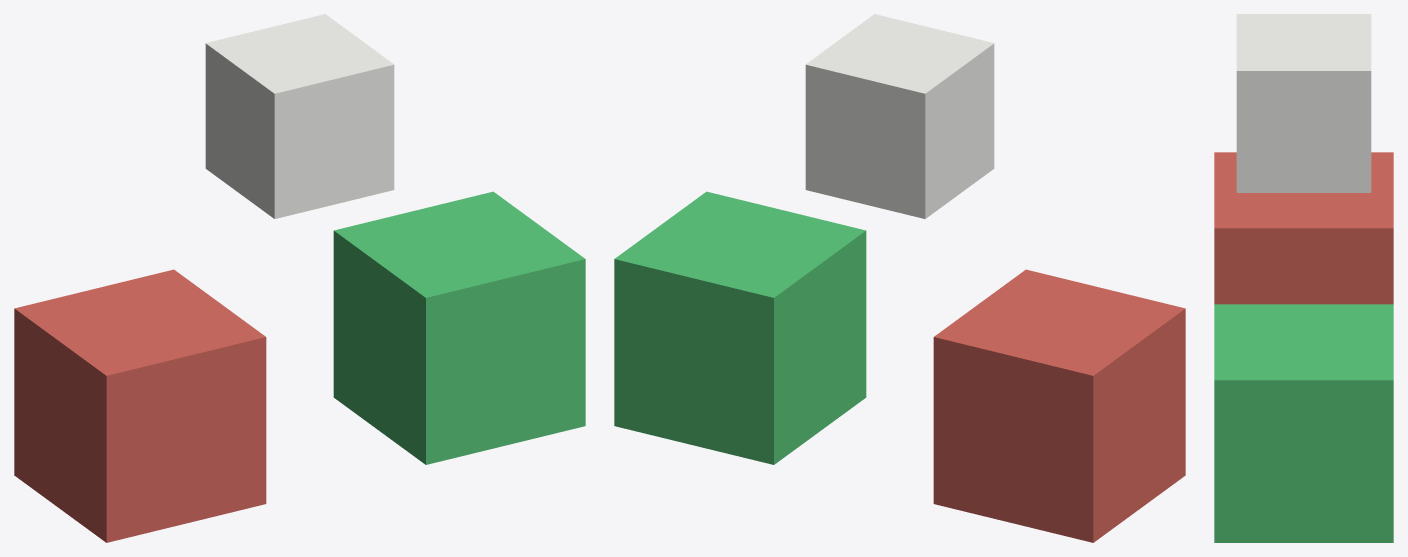
The model's file is nav_light_set.glb.
3 views of the same model, side by side, from view 1: azimuth 30°, elevation 25°; view 2: azimuth 150°, elevation 25°; view 3: azimuth 270°, elevation 25° (orthographic). The views are drawn at different scales.
Visible parts, largest first — view 1: redlight, greenlight, mastlight; view 2: redlight, greenlight, mastlight; view 3: greenlight, mastlight, redlight.
Boxes of the visible parts, x1,y1,x2,y2 form: redlight: (14,269,266,542); greenlight: (333,191,585,464); mastlight: (205,14,394,218); redlight: (933,269,1185,542); greenlight: (614,191,866,464); mastlight: (805,14,994,218); greenlight: (1214,304,1393,542); mastlight: (1236,14,1371,192); redlight: (1214,152,1393,304).
Size of the model in its own units: 1.2 by 0.95 by 0.3999.
